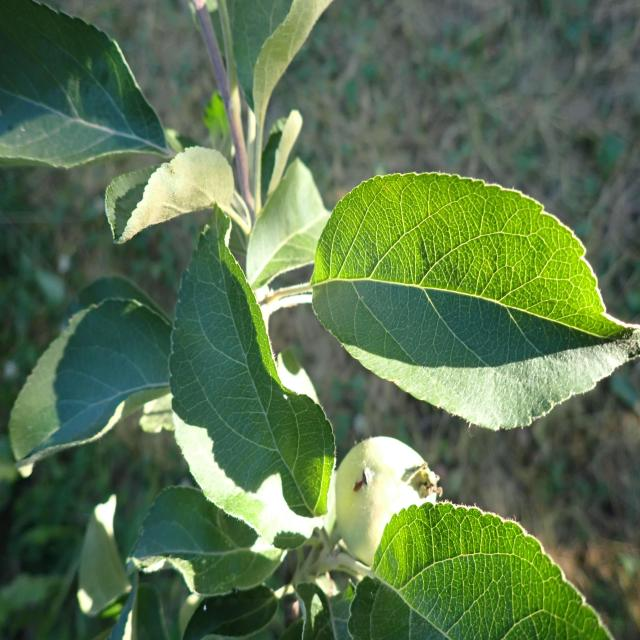healthy: (113, 142, 337, 550), (307, 170, 640, 432), (346, 500, 614, 640), (8, 275, 174, 470), (0, 0, 173, 169), (126, 485, 286, 597), (332, 435, 439, 569)
